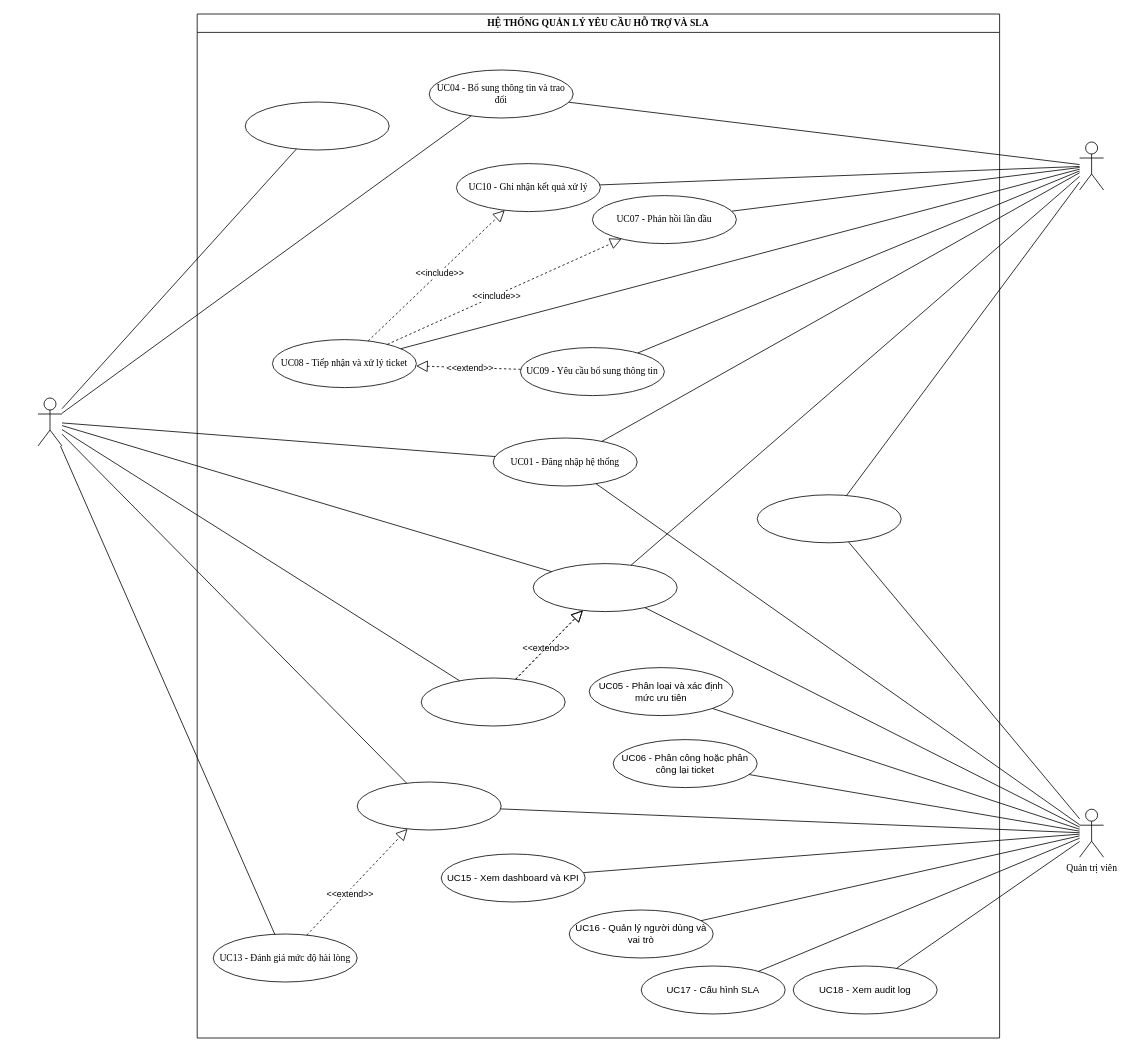
Some shapes in this 1130 by 1052 pixel diagram are drawn without their labels. The shapes that lost their labels are listed below. From the top down, each one's centre as x and y in pixels, then its label:
At (316,125): "UC02 - Tạo ticket".
At (1091,165): "Người xử lý".
At (49,421): "Người gửi yêu cầu".
At (828,518): "UC14 - Theo dõi SLA và escalation".
At (604,587): "UC03 - Xem và theo dõi ticket".
At (492,701): "UC12 - Yêu cầu mở lại ticket".
At (428,805): "UC11 - Xác nhận và đóng ticket".
